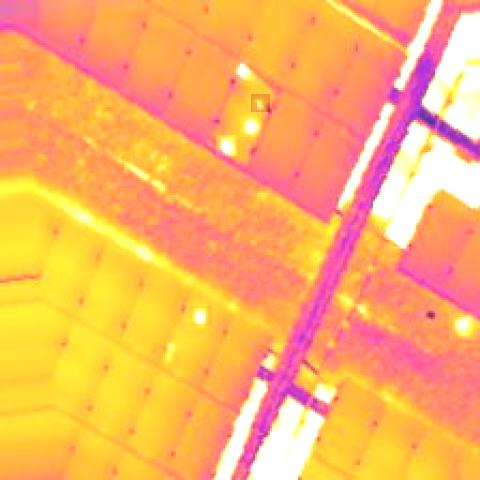fault: (450, 312, 478, 340), (189, 306, 212, 326), (216, 135, 236, 156), (234, 60, 250, 86), (240, 118, 261, 137), (251, 94, 270, 112)
